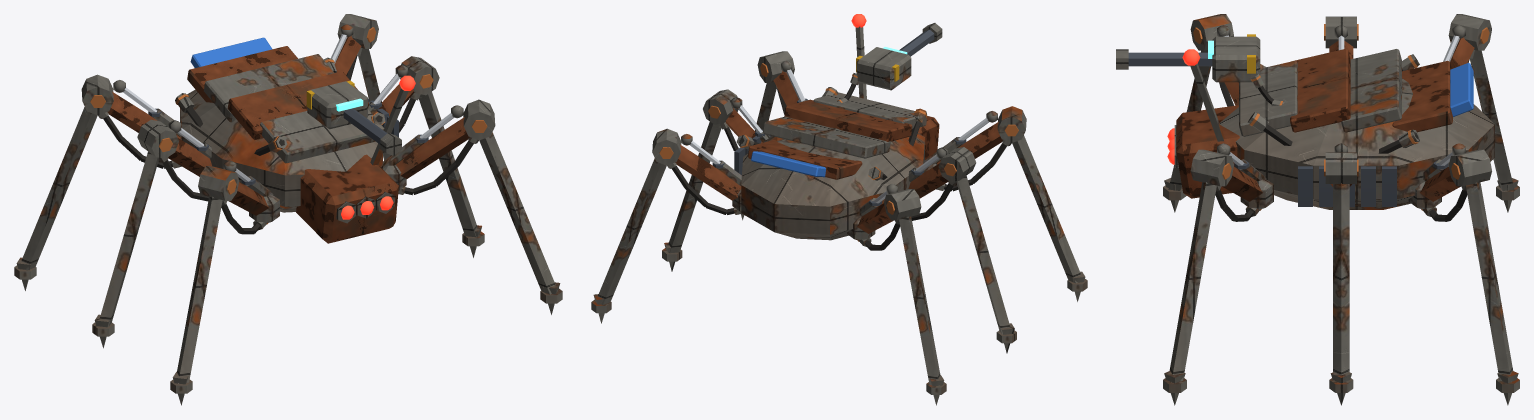
Rendered from hexapode.glb.
3 renders of one model, left to right at view 1: azimuth 30°, elevation 25°; view 2: azimuth 150°, elevation 25°; view 3: azimuth 270°, elevation 25°, orthographic. The views are drawn at different scales.
Parts seen in each view (by area): view 1: hexapode, zleg_0_r, zleg_0_l, zleg_2_l, zshin_2_l, zshin_0_l, zshin_0_r, zleg_1_l, zshin_1_l, zshin_1_r, zleg_1_r, zleg_2_r (+1 smaller); view 2: hexapode, zleg_2_r, zleg_0_l, zshin_2_l, zshin_0_l, zshin_2_r, zleg_2_l, zleg_1_l, zshin_1_l, zleg_1_r, zshin_1_r, zleg_0_r (+1 smaller); view 3: hexapode, zshin_1_r, zshin_0_r, zshin_2_r, zleg_0_r, zleg_2_r, zshin_2_l, zleg_2_l, zleg_0_l, zleg_1_r, zleg_1_l, zshin_0_l.
Boxes of the visible parts, x1=… form: hexapode: x1=175, y1=37, x2=415, y2=243; zleg_0_r: x1=383, y1=99, x2=495, y2=195; zleg_0_l: x1=198, y1=160, x2=279, y2=234; zleg_2_l: x1=81, y1=74, x2=181, y2=168; zshin_2_l: x1=14, y1=107, x2=97, y2=290; zshin_0_l: x1=170, y1=196, x2=222, y2=405; zshin_0_r: x1=479, y1=132, x2=562, y2=314; zleg_1_l: x1=137, y1=119, x2=211, y2=201; zshin_1_l: x1=92, y1=151, x2=158, y2=348; zshin_1_r: x1=419, y1=91, x2=484, y2=257; zleg_1_r: x1=368, y1=56, x2=439, y2=152; zleg_2_r: x1=331, y1=14, x2=378, y2=80; hexapode: x1=734, y1=14, x2=942, y2=240; zleg_2_r: x1=652, y1=128, x2=741, y2=214; zleg_0_l: x1=924, y1=106, x2=1026, y2=191; zshin_2_l: x1=899, y1=216, x2=946, y2=405; zshin_0_l: x1=1012, y1=135, x2=1087, y2=301; zshin_2_r: x1=591, y1=158, x2=666, y2=323; zleg_2_l: x1=847, y1=184, x2=921, y2=250; zleg_1_l: x1=908, y1=147, x2=976, y2=220; zshin_1_l: x1=956, y1=175, x2=1016, y2=353; zleg_1_r: x1=703, y1=89, x2=769, y2=150; zshin_1_r: x1=662, y1=121, x2=721, y2=271; zleg_0_r: x1=757, y1=51, x2=808, y2=114; hexapode: x1=1116, y1=34, x2=1494, y2=209; zshin_1_r: x1=1329, y1=183, x2=1353, y2=405; zshin_0_r: x1=1163, y1=182, x2=1216, y2=405; zshin_2_r: x1=1466, y1=182, x2=1519, y2=405; zleg_0_r: x1=1190, y1=143, x2=1273, y2=221; zleg_2_r: x1=1408, y1=143, x2=1491, y2=221; zshin_2_l: x1=1469, y1=50, x2=1519, y2=212; zleg_2_l: x1=1443, y1=14, x2=1491, y2=68; zleg_0_l: x1=1190, y1=14, x2=1238, y2=106; zleg_1_r: x1=1324, y1=143, x2=1358, y2=207; zleg_1_l: x1=1324, y1=16, x2=1358, y2=59; zshin_0_l: x1=1163, y1=50, x2=1211, y2=212.
Bounding box in the file's own units: 1.59 × 1.05 × 1.35.
10 materials, 2 textured.
